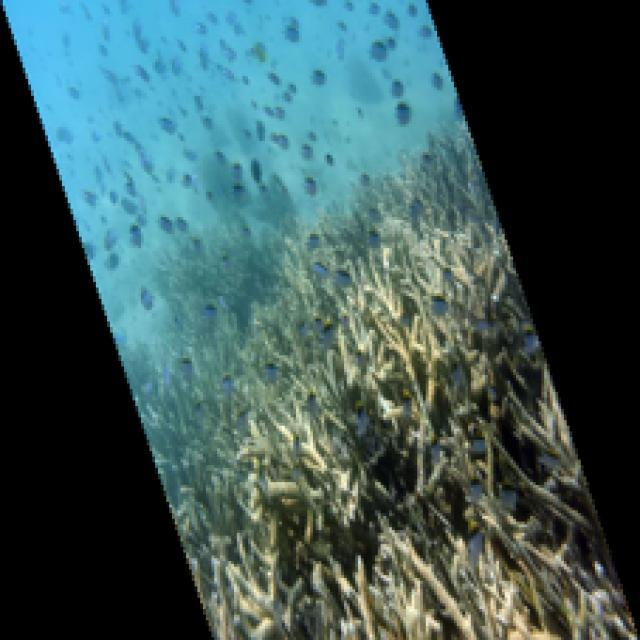Dead Coral: (193, 432, 580, 640), (328, 195, 534, 478)
